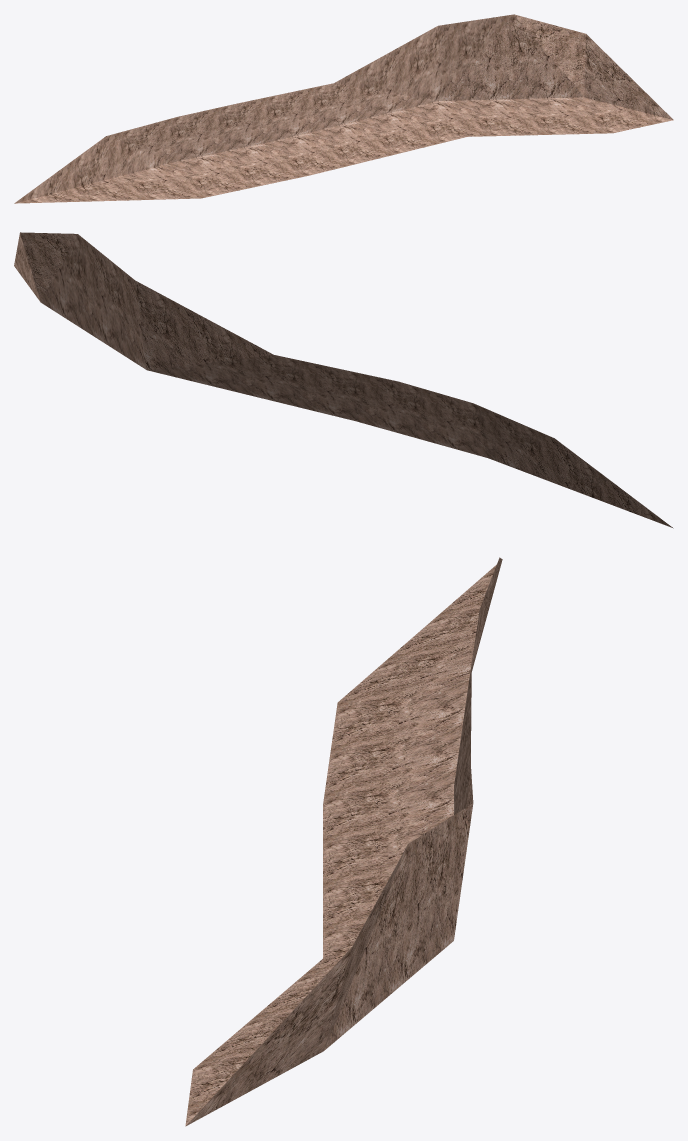
File: des_quarrycut3.obj
The picture shows the model from 3 angles, top to bottom: view 1: azimuth 30°, elevation 25°; view 2: azimuth 150°, elevation 25°; view 3: azimuth 270°, elevation 25°; orthographic projection. The views are drawn at different scales.
Visible parts, largest first — view 1: des_quarrycut3; view 2: des_quarrycut3; view 3: des_quarrycut3.
Boxes of the visible parts, x1=… form: des_quarrycut3: x1=14, y1=14, x2=673, y2=203; des_quarrycut3: x1=14, y1=232, x2=673, y2=528; des_quarrycut3: x1=185, y1=557, x2=502, y2=1126.
Bounding box in the file's own units: 62.17 × 9.27 × 14.71.
Materials: 1 (1 with a texture image).
